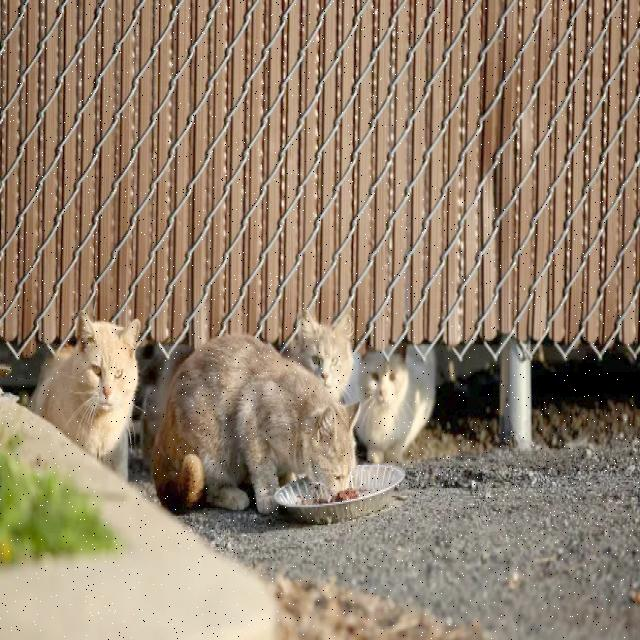cat: (152, 336, 359, 513), (30, 312, 140, 478), (356, 345, 436, 463), (286, 312, 354, 401)
